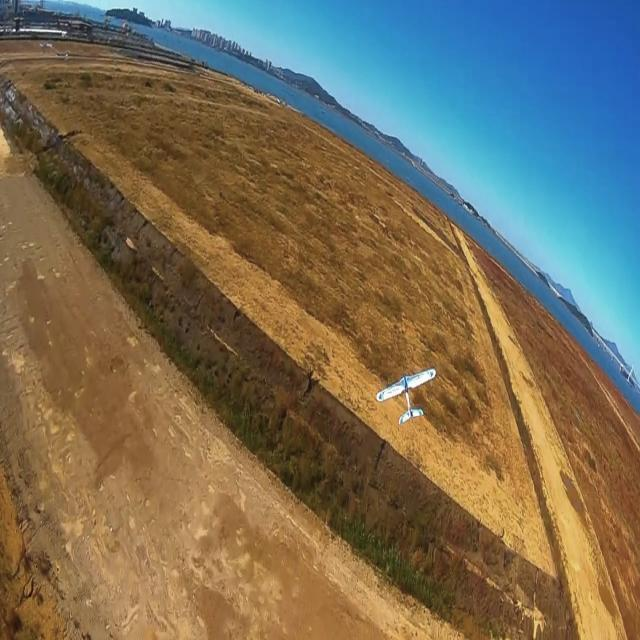iha: (376, 361, 434, 419)
